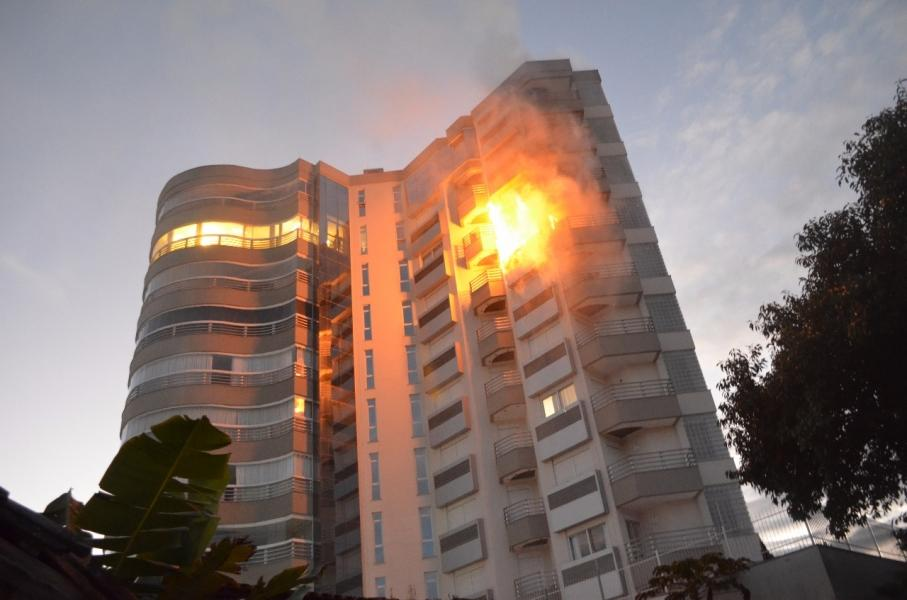fire: (479, 193, 549, 257)
